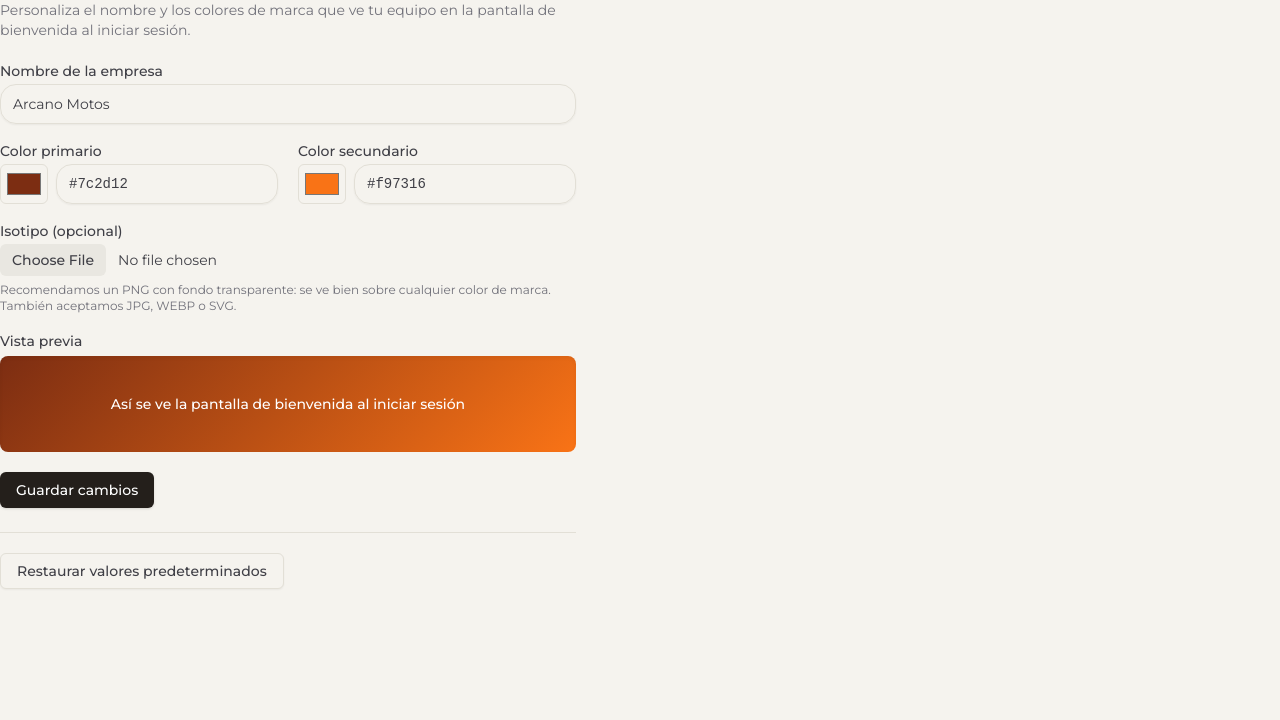
ConfiguracionEmpresaPage — restaurar valores predeterminados › cancelar el diálogo no envía ningún cambio
Expected: the field labelled "Nombre de la empresa" is shown, [0,84,576,124]
Click the button "Restaurar valores predeterminados".
click(142, 571)  # box [0,553,284,589]
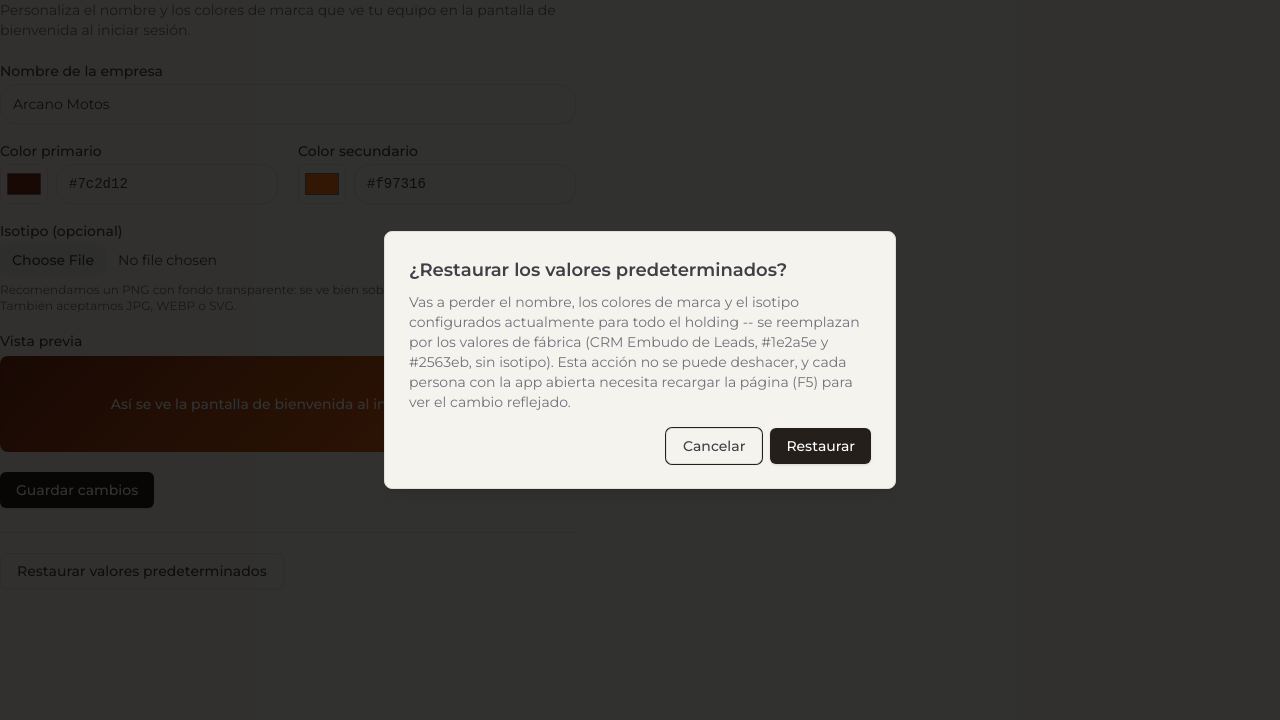
Result: the dialog is shown at [384,231,896,489]
Click the button "Cancelar".
click(714, 446)  # box [666,428,762,464]
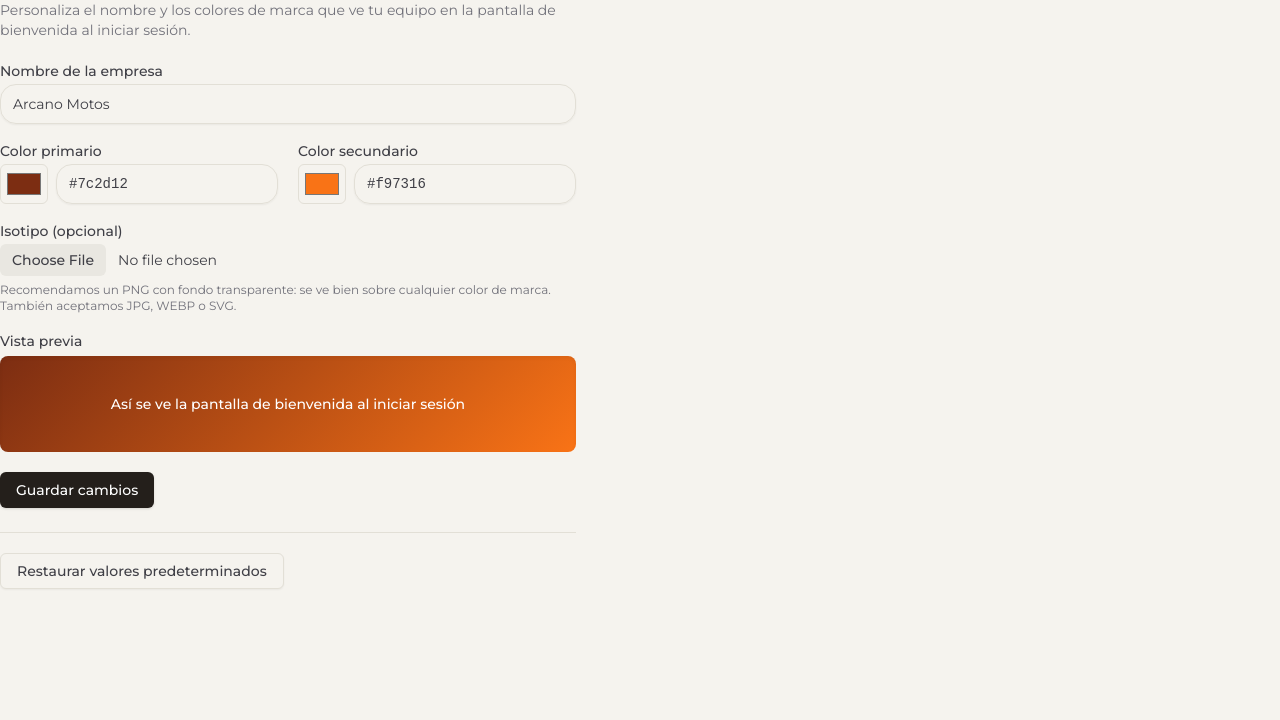
Result: the dialog is gone
